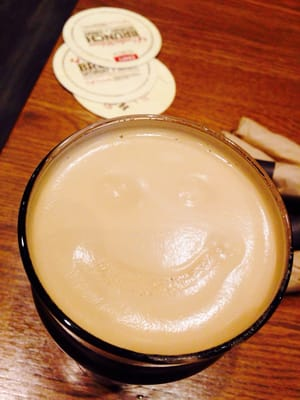pizza: (13, 114, 293, 381), (53, 5, 176, 119)
sushi: (14, 114, 292, 375)
